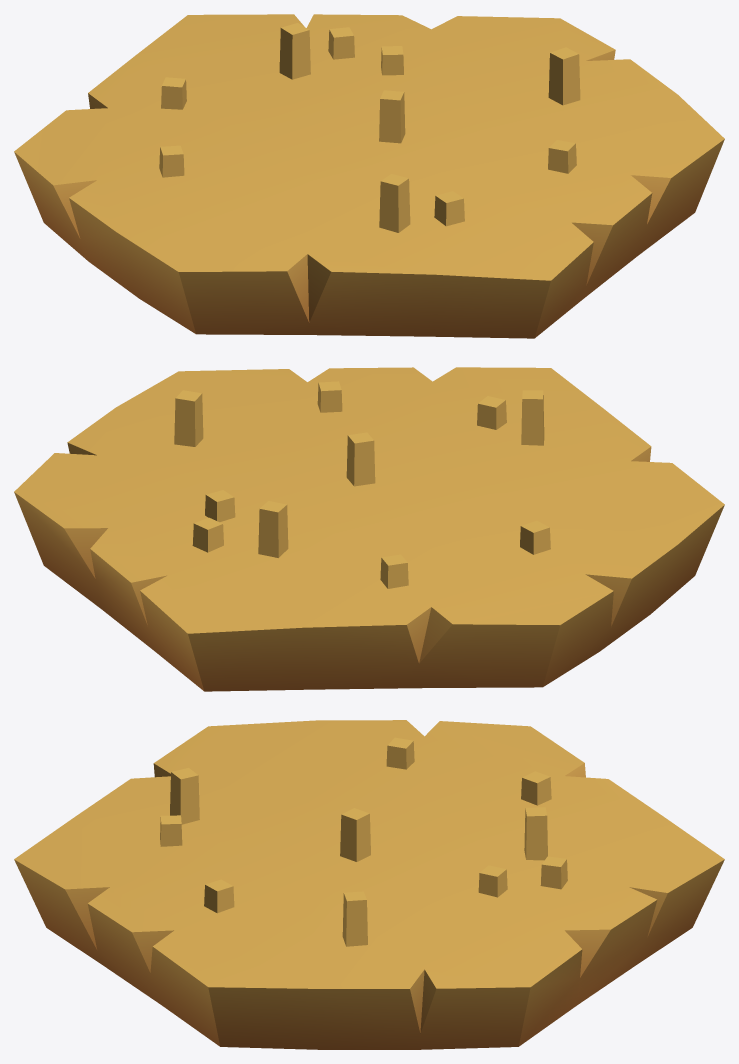
The model's file is grain.glb.
The picture shows the model from 3 angles, top to bottom: view 1: azimuth 30°, elevation 25°; view 2: azimuth 150°, elevation 25°; view 3: azimuth 270°, elevation 25°; orthographic projection. The views are drawn at different scales.
Parts seen in each view (by area): view 1: building_grain; view 2: building_grain; view 3: building_grain.
Boxes of the visible parts, x1=… form: building_grain: x1=14, y1=14, x2=724, y2=338; building_grain: x1=14, y1=367, x2=724, y2=691; building_grain: x1=14, y1=720, x2=724, y2=1049.
Bounding box in the file's own units: 1.87 × 0.3938 × 2.09.
1 material, 1 textured.
